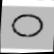no answer: (6, 9, 46, 43)
